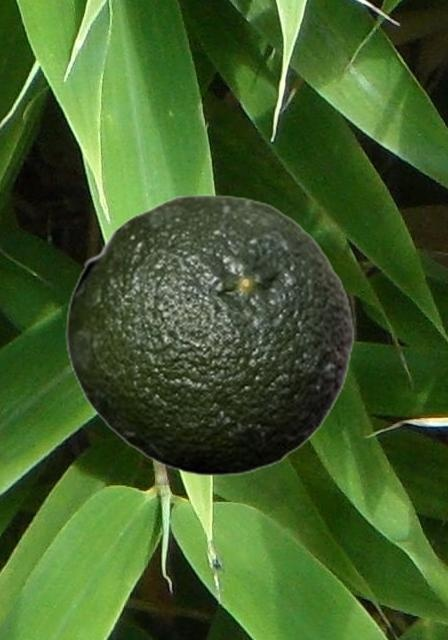calamansi: (65, 194, 354, 475)
